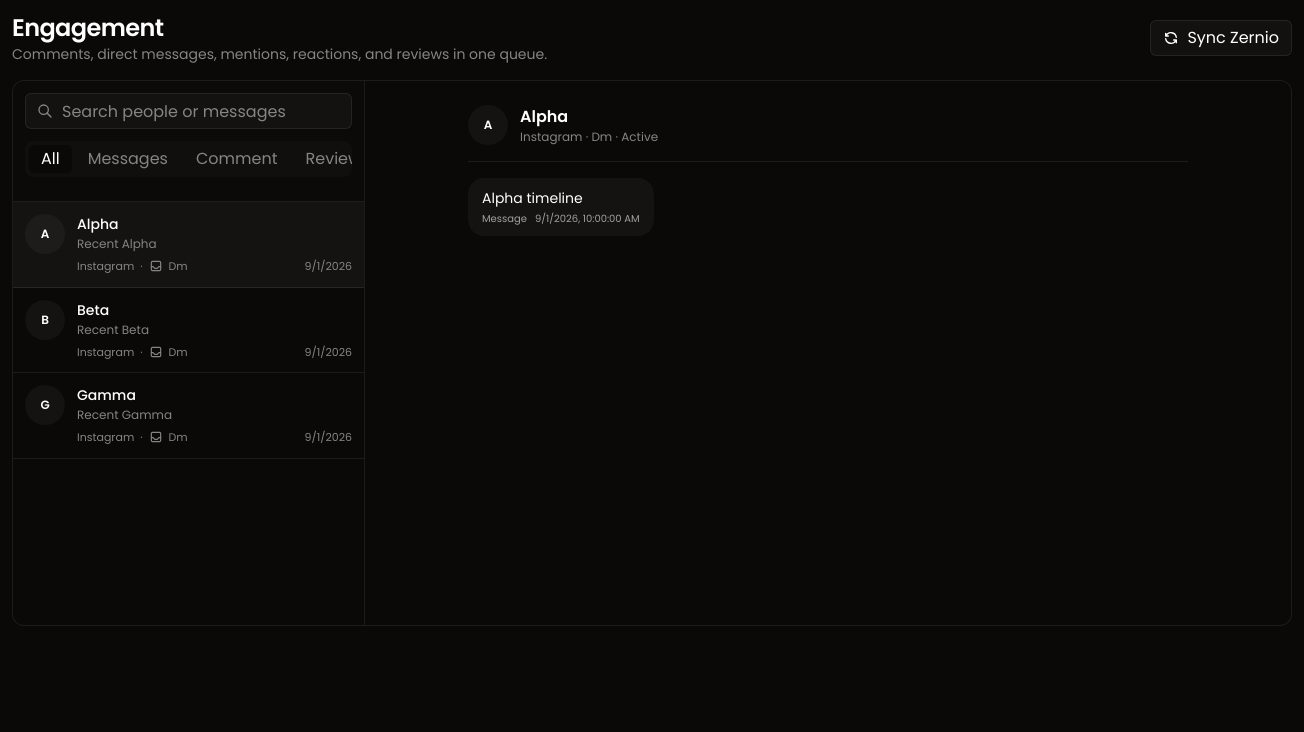
UnifiedInbox › shows a returned refresh error while retaining the selected conversation, then retries
Click the button "Sync Zernio" at (1221, 38), box [1150,20,1292,56]
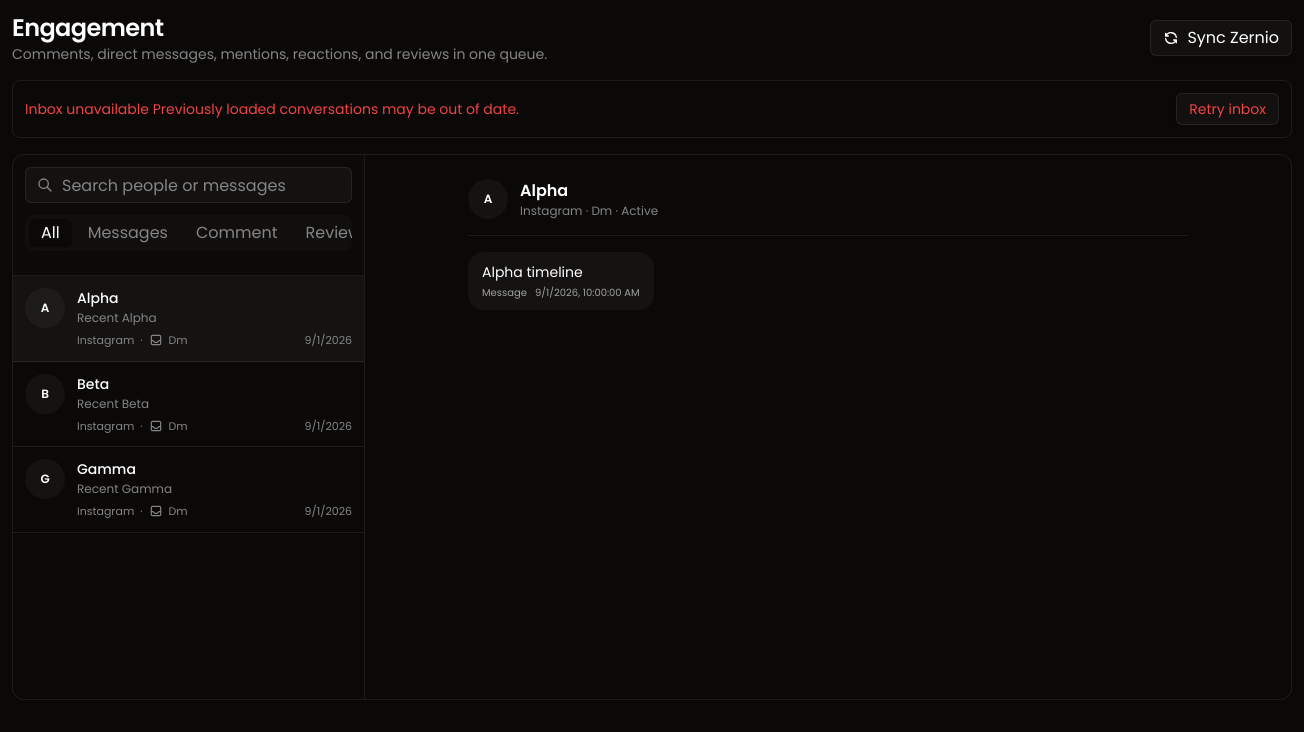
Check: the heading "Alpha" is shown, box [520,179,568,202]
Check: the message shows "Inbox unavailable", box [25,99,149,119]
Click the button "Retry inbox" at (1228, 109), box [1176,93,1279,125]
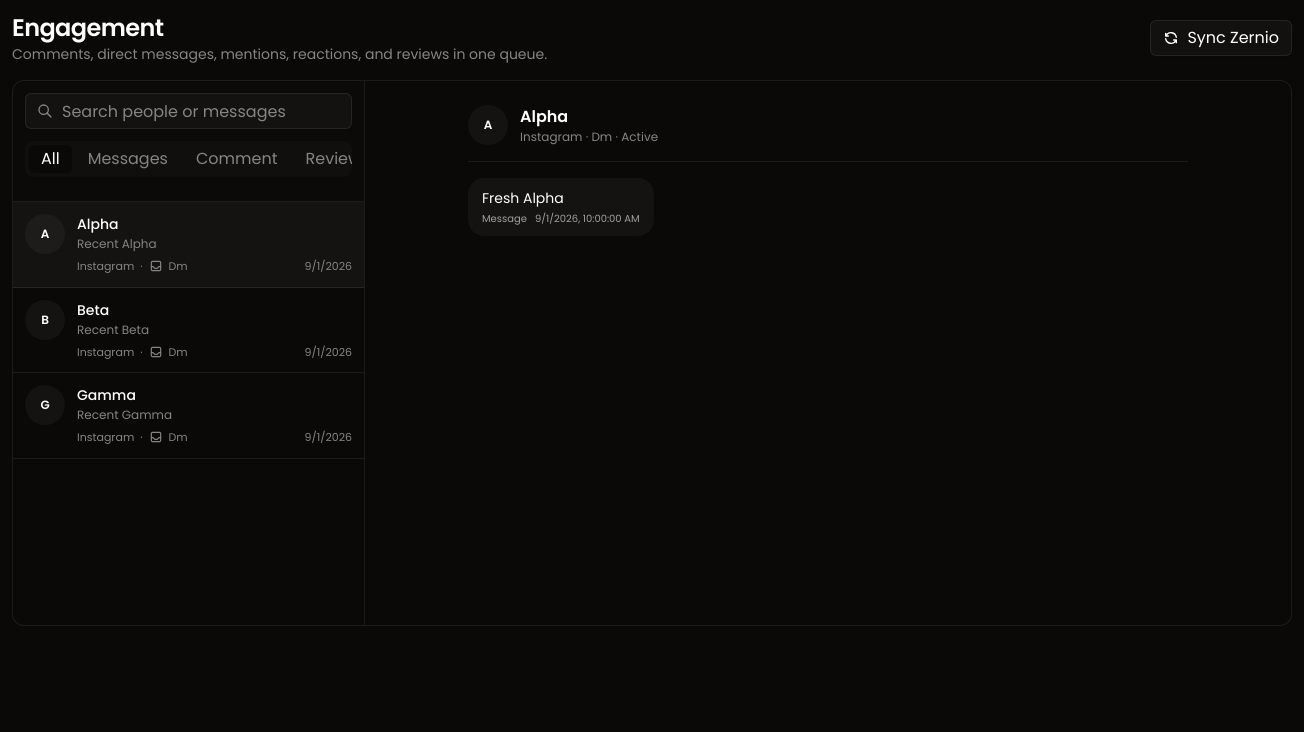
Check: the text "Fresh Alpha" is shown, box [482,188,564,208]
Check: the message is gone
